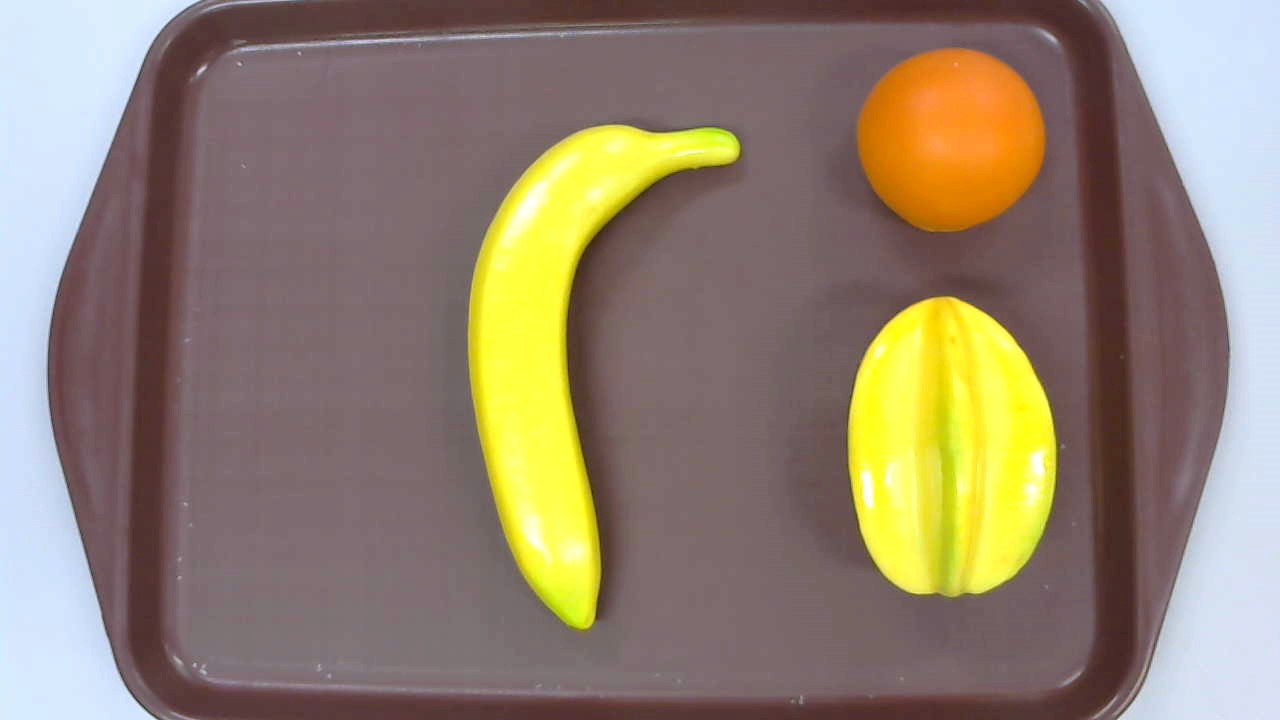banana: (466, 124, 741, 630)
bun: (857, 47, 1046, 234)
star fruit: (846, 297, 1060, 598)
